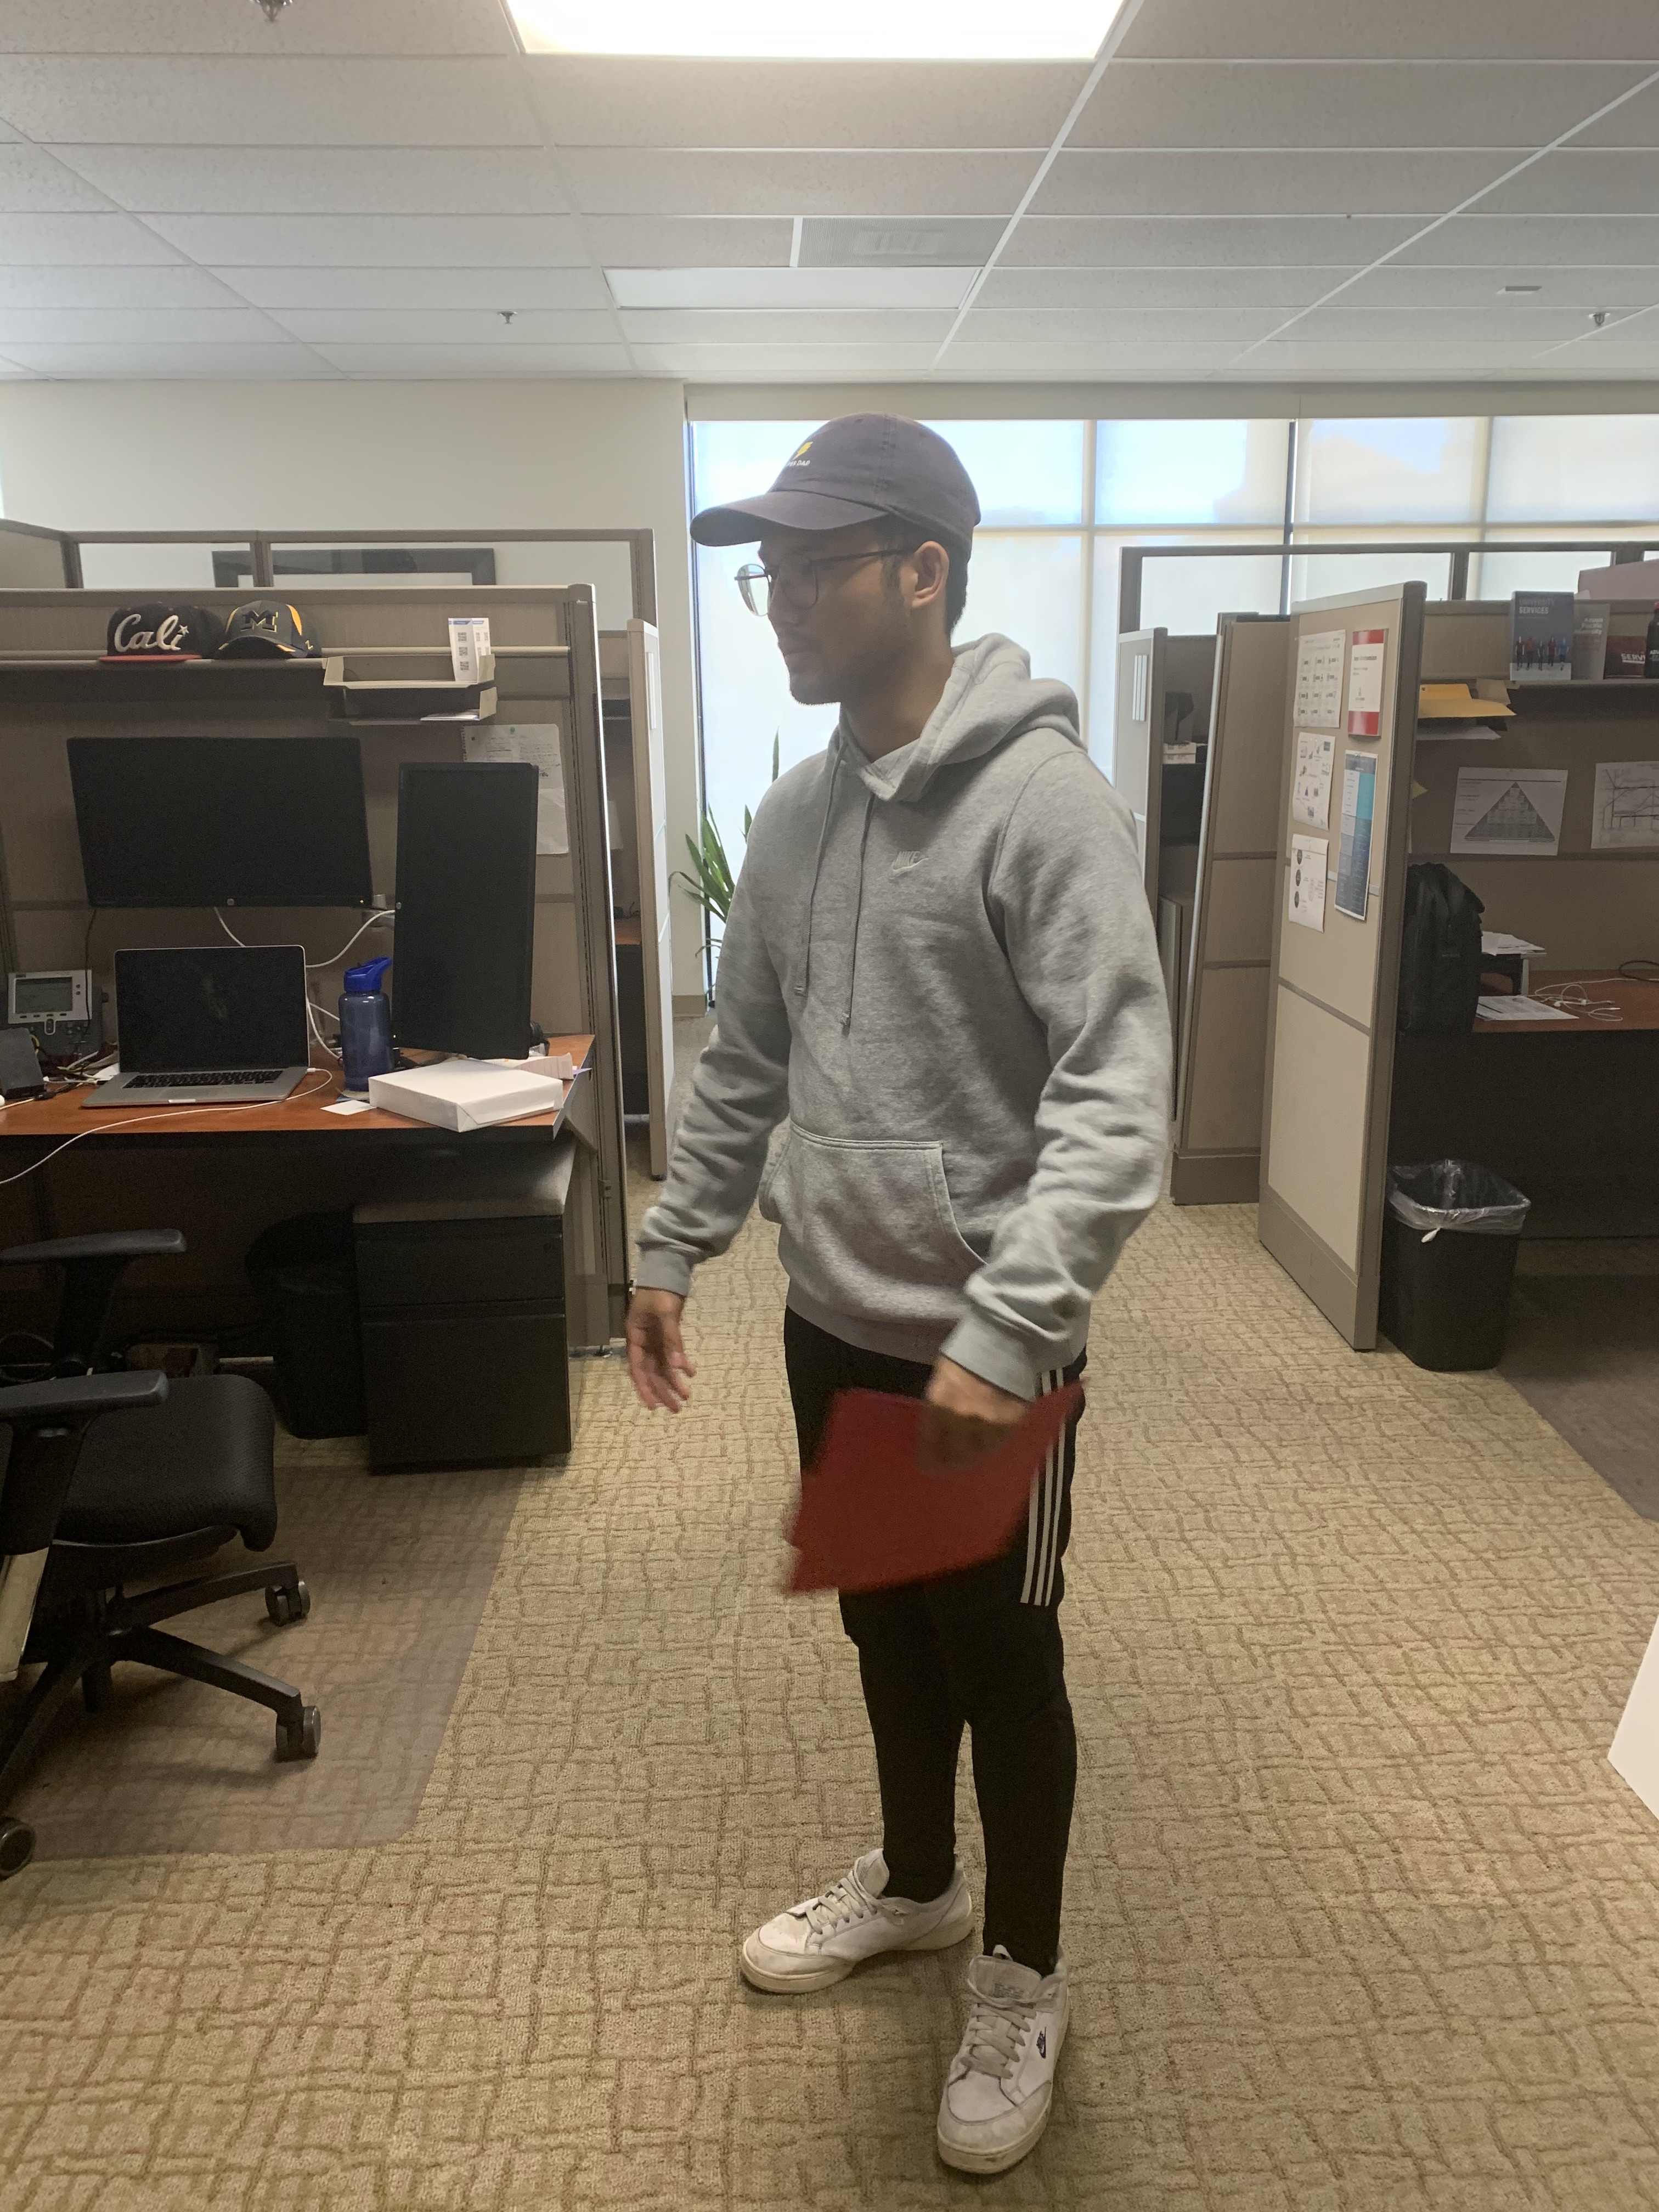red folder: (769, 1371, 1110, 1623)
